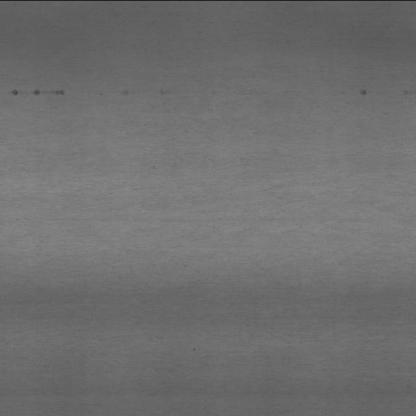oil_spot: (7, 86, 68, 96), (112, 89, 175, 98), (352, 88, 375, 96)
